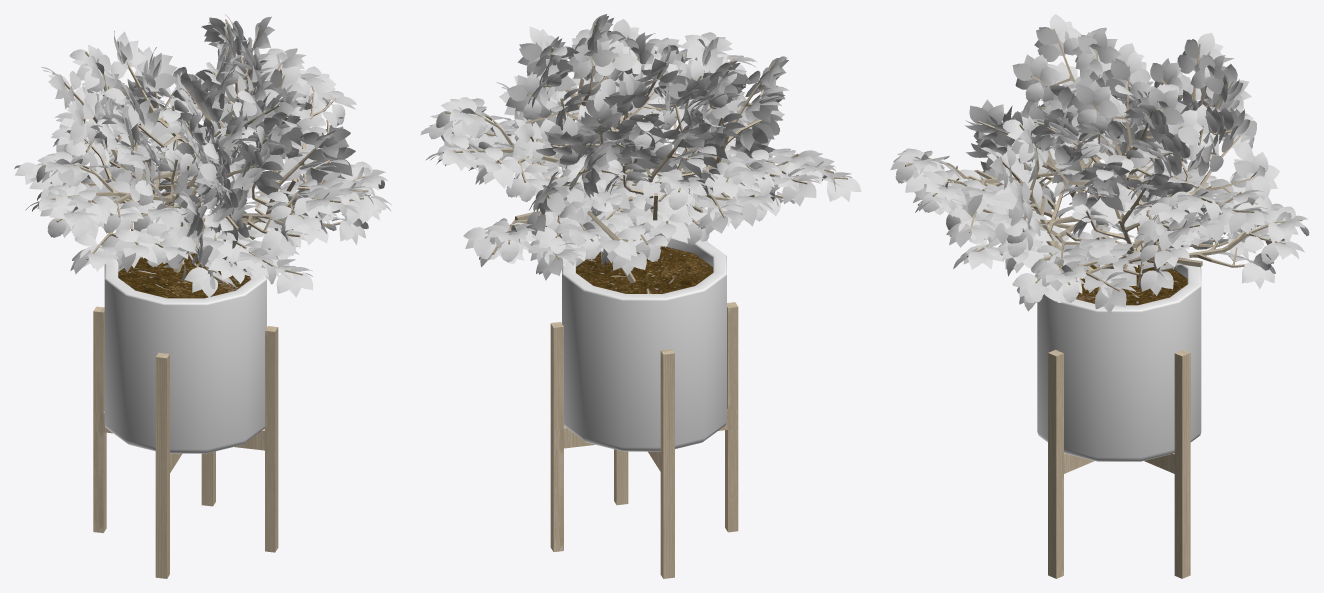
Rendered from Plants_Pots_14.fbx.
The picture shows the model from 3 angles, left to right: view 1: azimuth 30°, elevation 25°; view 2: azimuth 150°, elevation 25°; view 3: azimuth 270°, elevation 25°; orthographic projection.
Visible parts, largest first — view 1: Cylinder.022; view 2: Cylinder.022; view 3: Cylinder.022.
Boxes of the visible parts, <box> form: Cylinder.022: <box>14,14,391,578</box>; Cylinder.022: <box>420,14,861,578</box>; Cylinder.022: <box>890,14,1309,578</box>.
Bounding box in the file's own units: 75.96 × 103 × 76.45.
